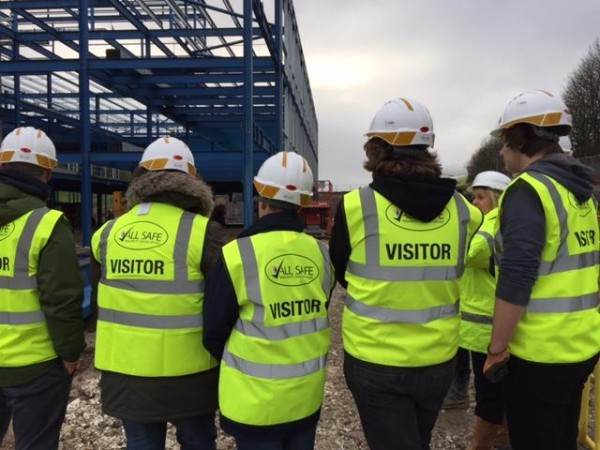Hard Hat: (252, 150, 316, 204), (486, 91, 573, 130), (363, 99, 436, 145), (1, 127, 62, 168), (137, 133, 198, 174), (466, 171, 511, 189)
High Viz: (95, 201, 215, 371), (346, 179, 456, 361), (229, 228, 328, 417), (520, 166, 600, 361), (1, 204, 53, 363)
